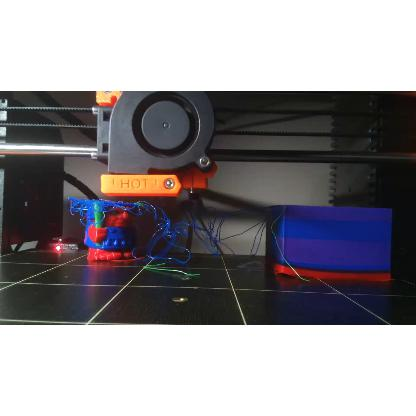fail: (134, 202, 268, 262), (64, 196, 132, 218)
